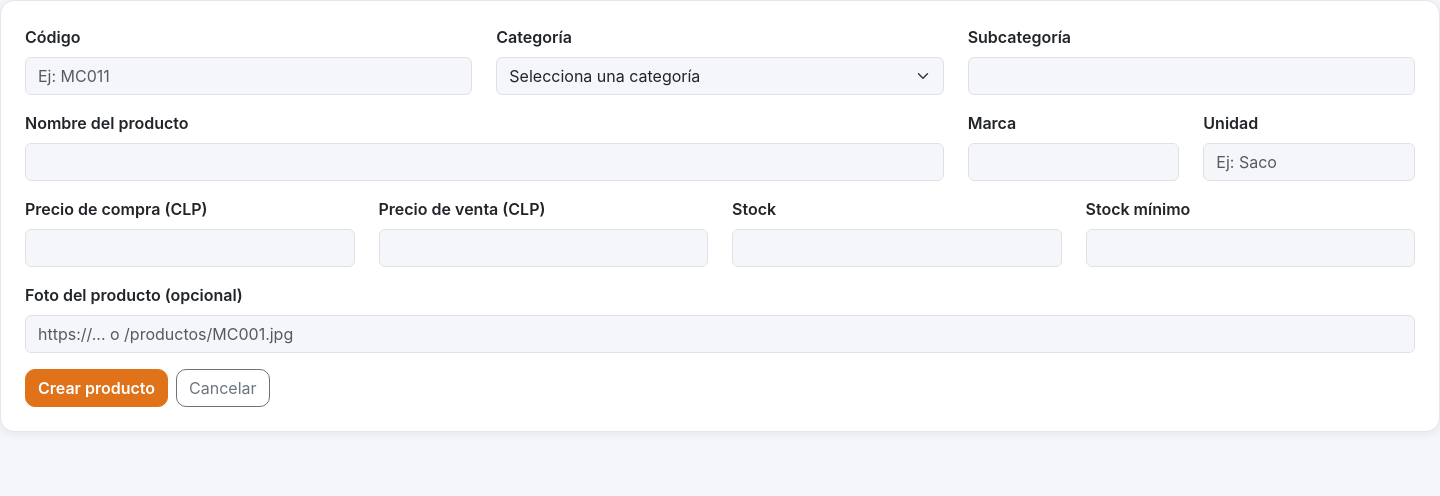
Test: ProductForm (formulario controlado) › muestra error de formato al salir del campo código con un valor inválido
Type "xx" into the field labelled "Código" at (249, 76), box [25,57,472,95]
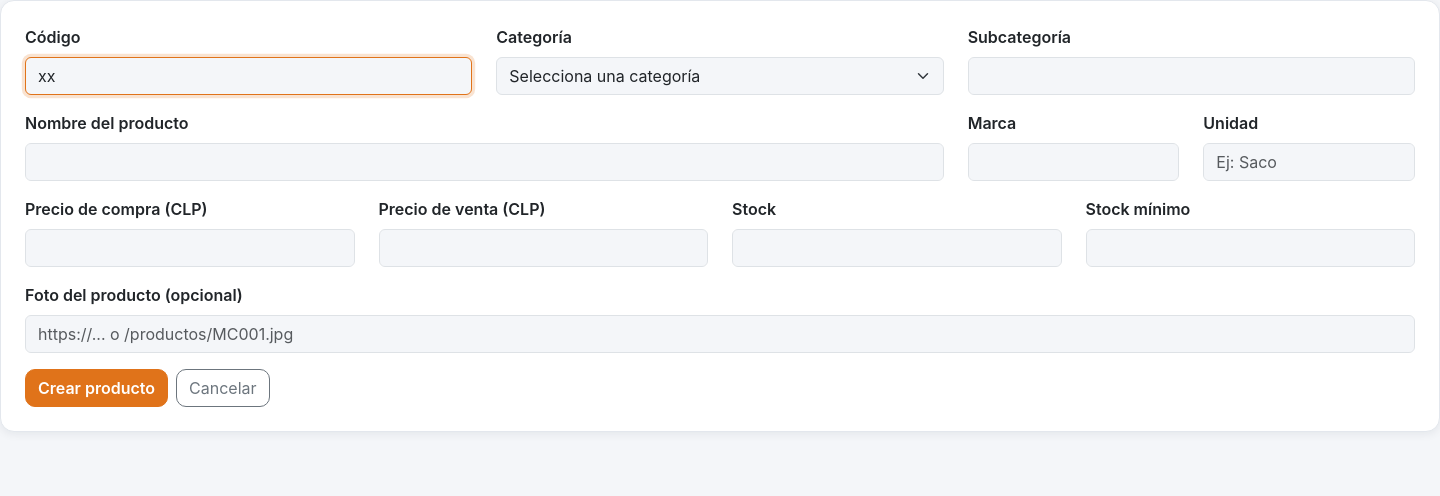
Press Tab
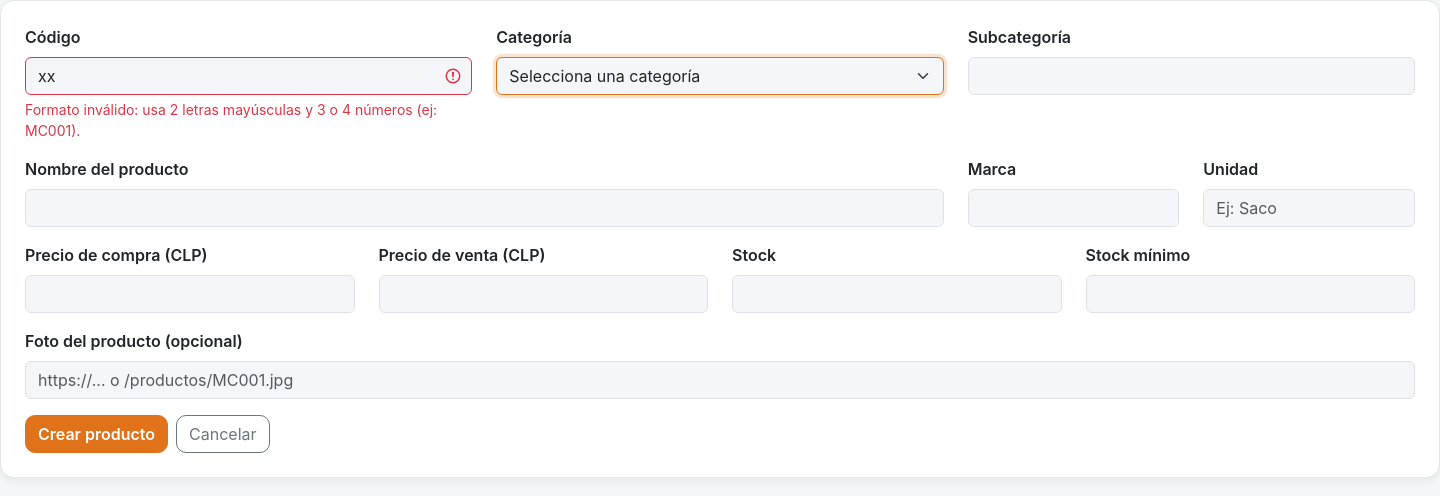
Check: the text "Formato inválido" is shown, box [25,101,437,139]
